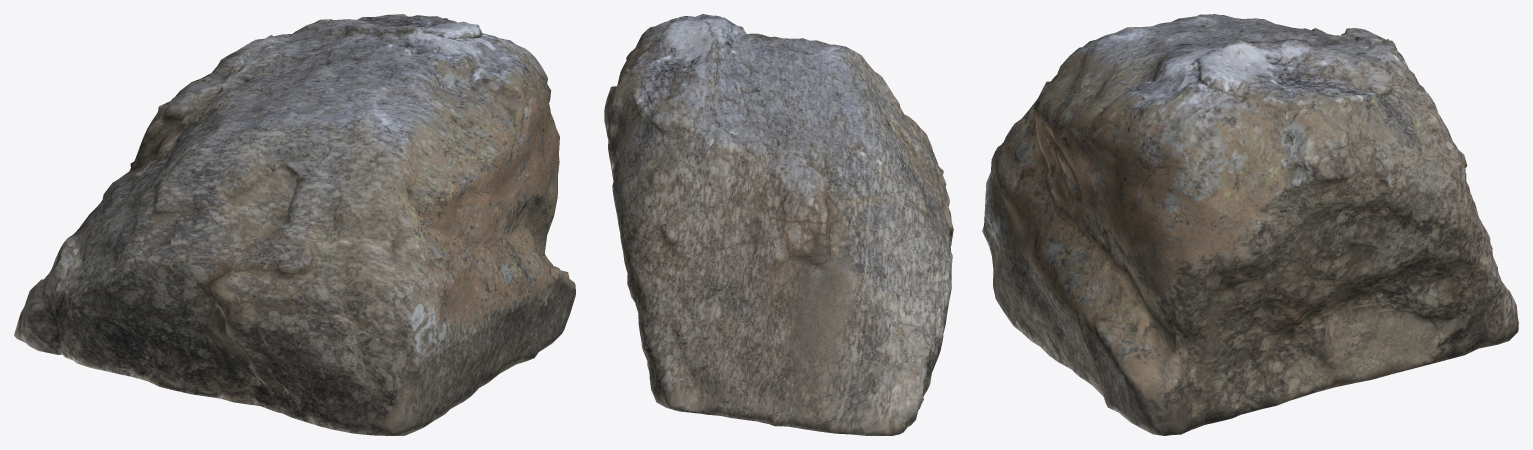
The model's file is boulder_c.glb.
3 views of the same model, side by side, from view 1: azimuth 30°, elevation 25°; view 2: azimuth 150°, elevation 25°; view 3: azimuth 270°, elevation 25° (orthographic). The views are drawn at different scales.
Parts seen in each view (by area): view 1: boulder_c; view 2: boulder_c; view 3: boulder_c.
Boxes of the visible parts, x1,y1,x2,y2 form: boulder_c: (14, 14, 575, 435); boulder_c: (604, 14, 953, 435); boulder_c: (982, 14, 1518, 435).
Bounding box in the file's own units: 3 × 2.03 × 2.97.
Materials: 1 (1 with a texture image).
